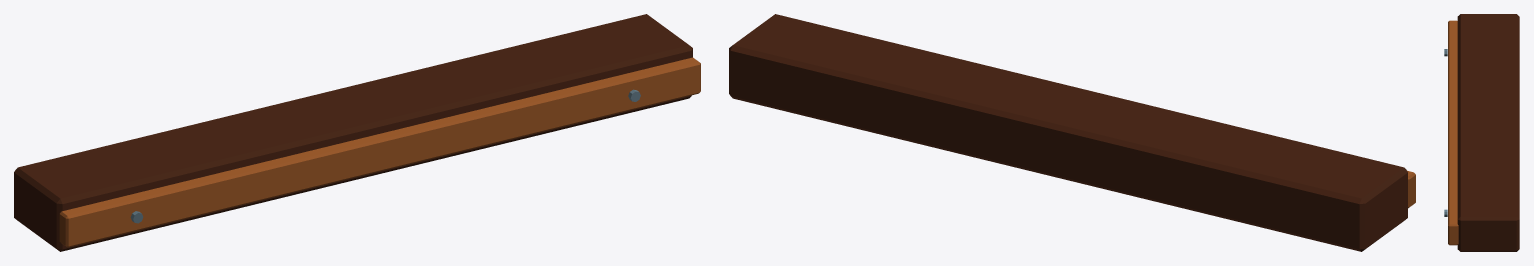
The model's file is QH_Eaves_Beam_2m.fbx.
The picture shows the model from 3 angles, left to right: view 1: azimuth 30°, elevation 25°; view 2: azimuth 150°, elevation 25°; view 3: azimuth 270°, elevation 25°; orthographic projection. The views are drawn at different scales.
Visible parts, largest first — view 1: QH_Eaves_Beam_2m; view 2: QH_Eaves_Beam_2m; view 3: QH_Eaves_Beam_2m.
Part boxes in pixels (left/top/right/bottom): QH_Eaves_Beam_2m: left=14, top=14, right=700, bottom=251; QH_Eaves_Beam_2m: left=729, top=14, right=1415, bottom=251; QH_Eaves_Beam_2m: left=1444, top=14, right=1519, bottom=251.
Size of the model in its own units: 2 by 0.16 by 0.3095.
